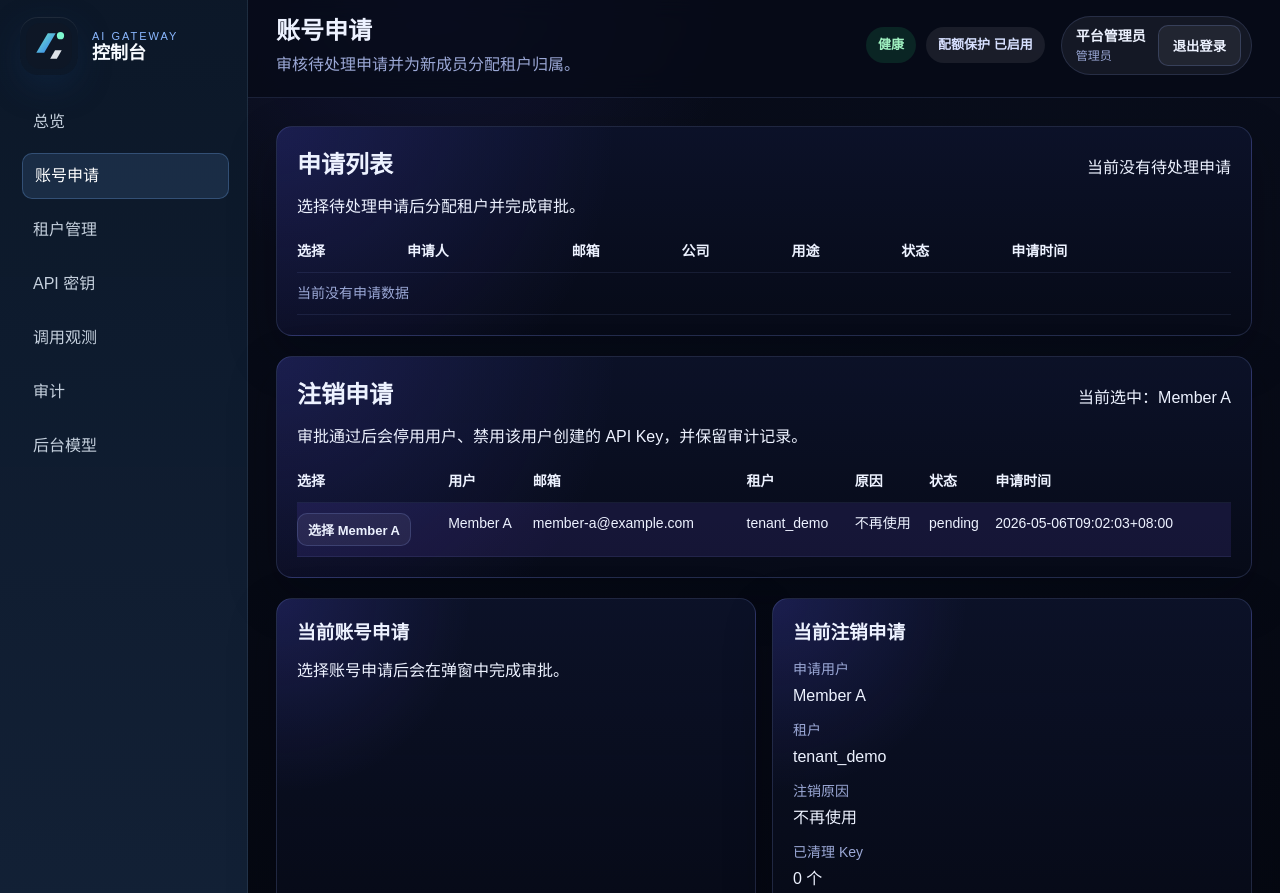
it: 控制台路由 › 账号申请页支持审批账户注销申请并提交清理动作
Step 1. Click the button "选择 Member A" → (354, 530), box [297, 513, 411, 546]
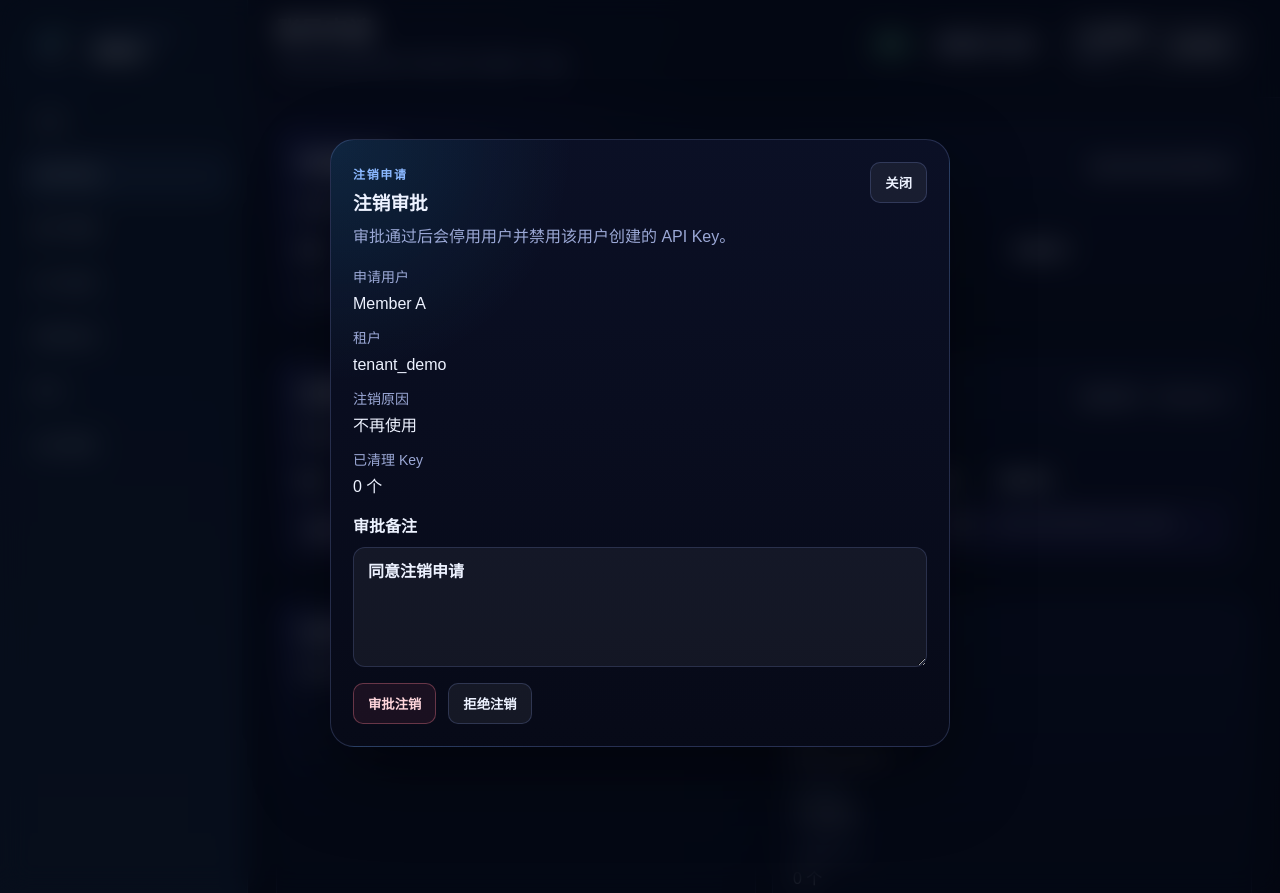
Result: the dialog "注销审批" is shown at [330, 140, 950, 747]
Step 2. Click the button "审批注销" → (395, 703), box [353, 682, 436, 724]
(page scrolled)
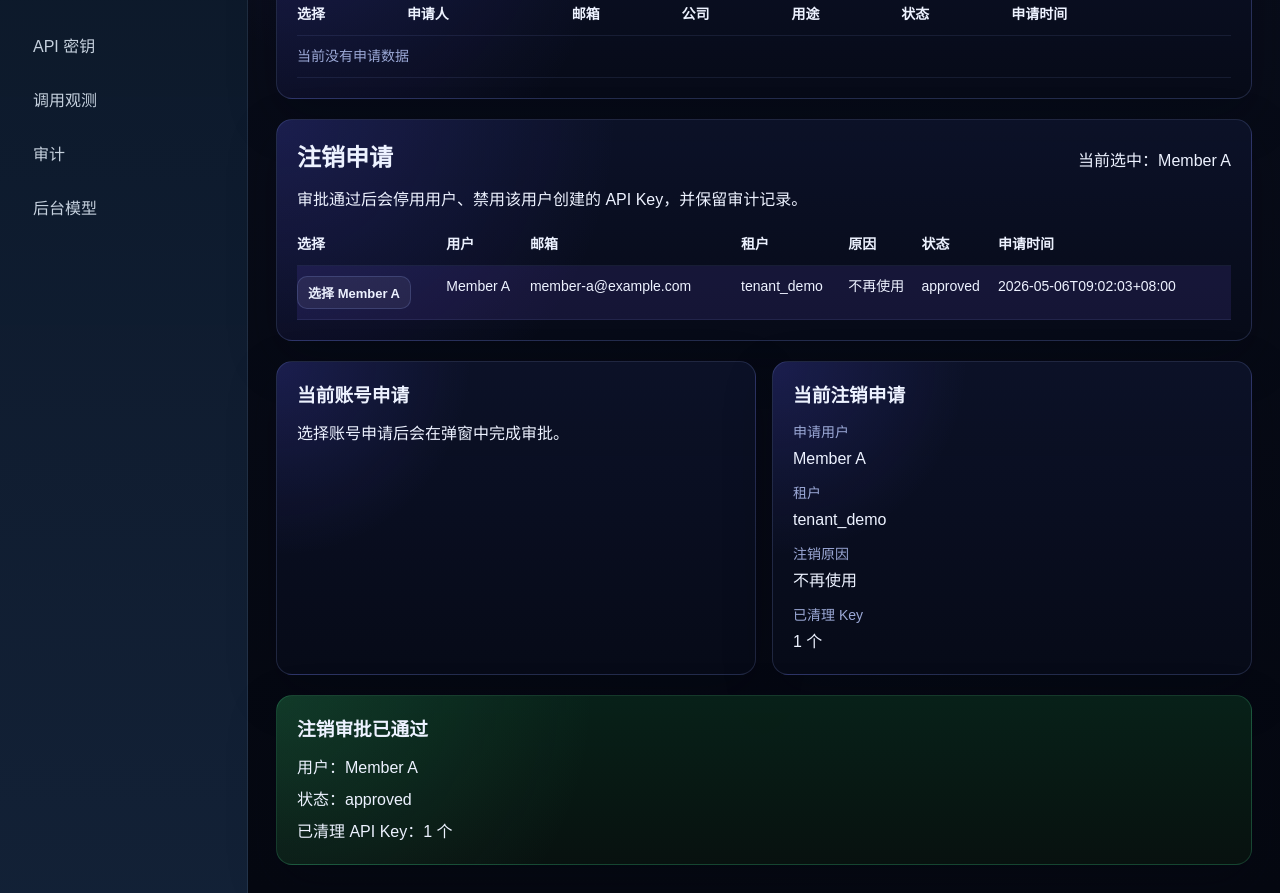
Result: the heading "注销审批已通过" is shown at [297, 719, 428, 740]
Result: the text "已清理 API Key：1 个" is shown at [297, 823, 453, 840]
